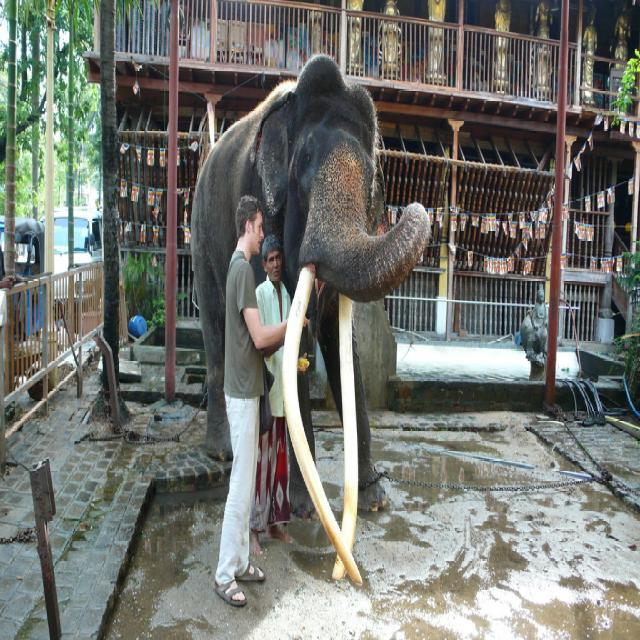elephant: (188, 52, 430, 585)
